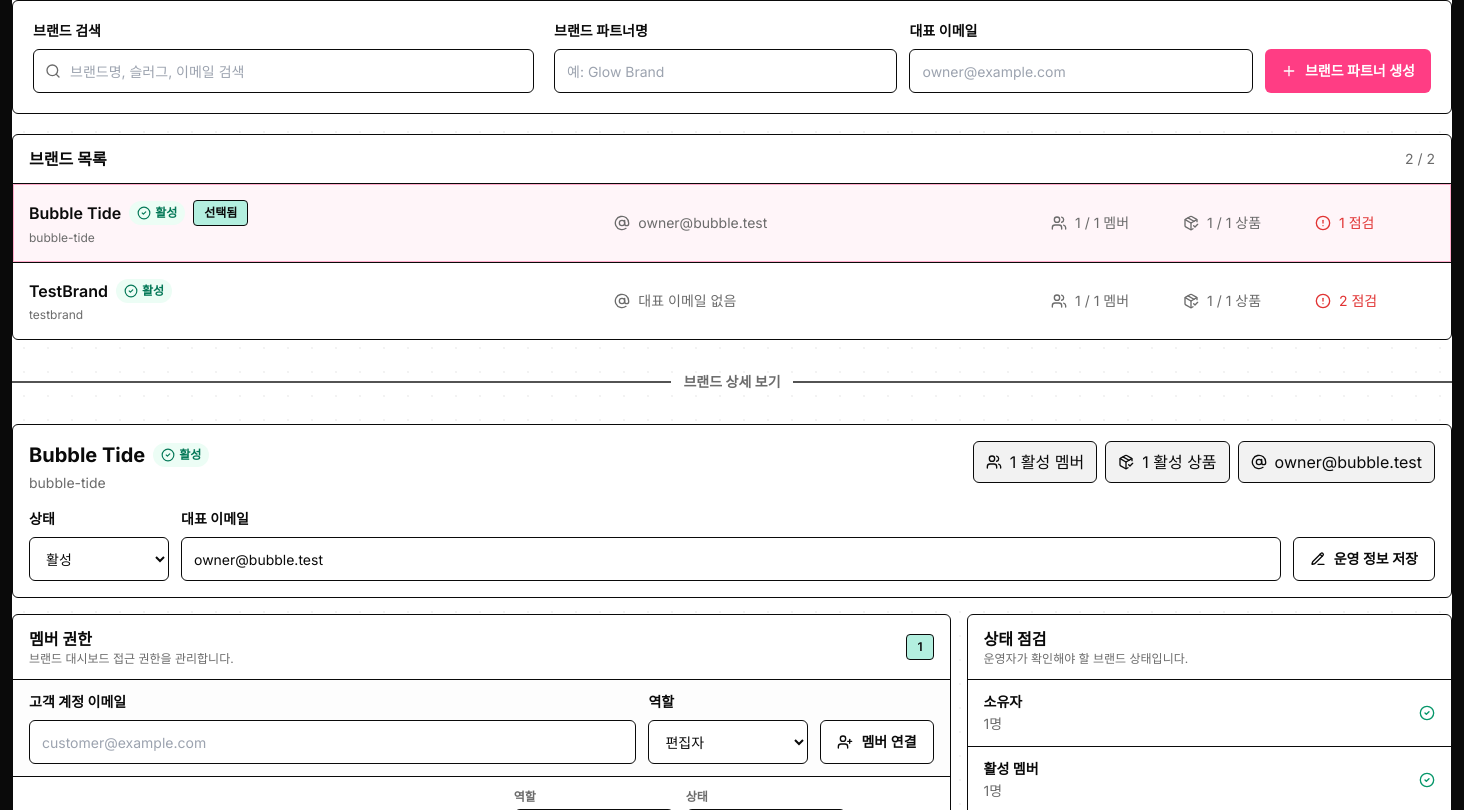
Scenario: AdminBrandManagementClient › opens the clicked brand detail below the row list
Step 1. Click the button with test id "brand-row-brand_2" → (732, 300), box [13, 262, 1451, 339]
(page scrolled)
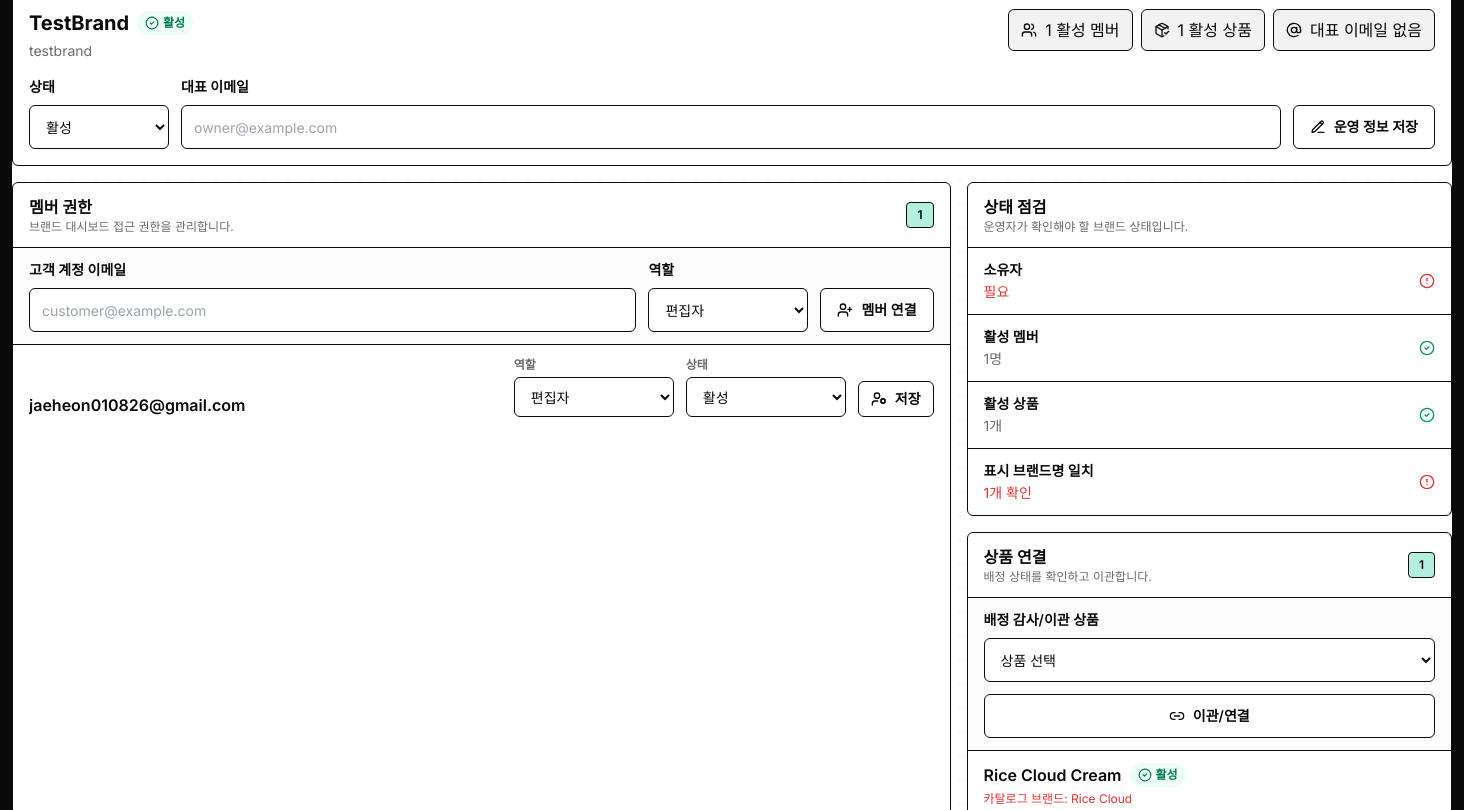
Result: the heading "TestBrand" is shown at [29, 9, 129, 37]
Result: the text "jaeheon010826@gmail.com" is shown at [29, 395, 246, 415]
